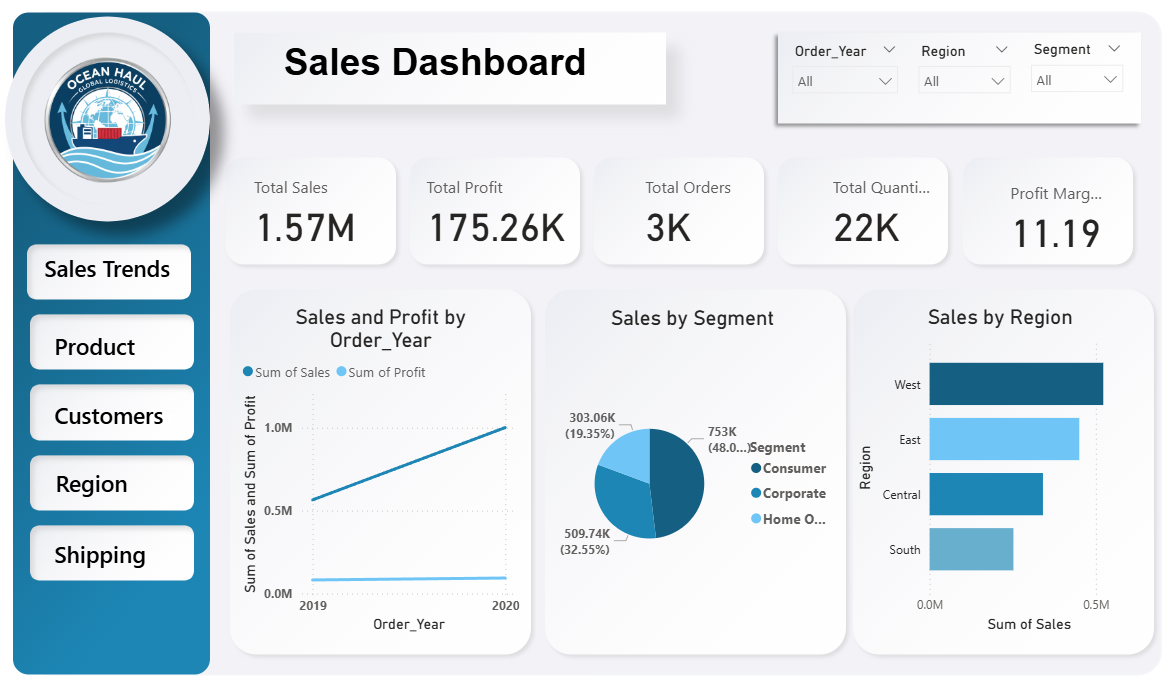

The dashboard page shown, as its layout file describes it:
{"tool":"powerbi","page":{"name":"Page 1","canvas":[1280,720],"ordinal":0},"visuals":[{"type":"textbox","box":[281.2,55,451.2,73.8],"z":0},{"type":"lineChart","title":" Sales and Profit by Order_Year","fields":{"Y":["Sum(Sheet1.Sales)","Sum(Sheet1.Profit)"],"Category":["Sheet1.Order_Year"]},"box":[305,318.8,287.5,332.5],"z":1000},{"type":"clusteredBarChart","title":"Sales by Region","fields":{"Y":["Sum(Sheet1.Sales)"],"Category":["Sheet1.Region"]},"box":[920,318.8,296.2,332.5],"z":2000},{"type":"pieChart","title":"Sales by Segment","fields":{"Category":["Sheet1.Segment"],"Y":["Sum(Sheet1.Sales)"]},"box":[612.5,320,296.2,332.5],"z":3000},{"type":"cardVisual","title":"Total Profit","fields":{"Data":["Sheet1.Total Sales"]},"box":[305,172.5,172.5,118.8],"z":4000},{"type":"cardVisual","fields":{"Data":["Sheet1.Total Quantity Sold"]},"box":[862.5,171.2,151.2,110],"z":5000},{"type":"cardVisual","fields":{"Data":["Sheet1.Profit Margin %"]},"box":[1045,178.8,156.2,95],"z":6000},{"type":"slicer","fields":{"Values":["Sheet1.Order_Year"]},"box":[850,51.2,126.2,82.5],"z":7000},{"type":"cardVisual","title":"Total Profit","fields":{"Data":["Sheet1.Total Profit"]},"box":[477.5,171.2,193.8,110],"z":8000},{"type":"cardVisual","fields":{"Data":["Sheet1.Total Orders"]},"box":[696.2,171.2,153.8,110],"z":9000},{"type":"slicer","fields":{"Values":["Sheet1.Region"]},"box":[976.2,51.2,112.5,83.8],"z":10000},{"type":"slicer","fields":{"Values":["Sheet1.Segment"]},"box":[1088.8,50,112.5,83.8],"z":11000},{"type":"actionButton","box":[133.8,408.8,147.5,42.5],"z":12000},{"type":"actionButton","box":[111.2,261.2,146.2,40],"z":13000},{"type":"actionButton","box":[122.5,476.2,146.2,40],"z":14000},{"type":"actionButton","box":[121.2,408.8,147.5,40],"z":15000},{"type":"actionButton","box":[121.2,547.5,147.5,40],"z":16000},{"type":"actionButton","box":[121.2,338.8,147.5,41.2],"z":17000},{"type":"image","box":[82.5,42.5,186.2,183.8],"z":18000}]}

Visuals, with their boxes on the page's 1280x720 design canvas (x1, y1, x2, y2). These are canvas units, not pixel positions in the 1174x682 screenshot, which may show the page scaled, cropped or inside an application window:
textbox: (x1=281, y1=55, x2=732, y2=129)
" Sales and Profit by Order_Year" lineChart: (x1=305, y1=319, x2=592, y2=651)
"Sales by Region" clusteredBarChart: (x1=920, y1=319, x2=1216, y2=651)
"Sales by Segment" pieChart: (x1=612, y1=320, x2=909, y2=652)
"Total Profit" cardVisual: (x1=305, y1=172, x2=478, y2=291)
cardVisual - Sheet1.Total Quantity Sold: (x1=862, y1=171, x2=1014, y2=281)
cardVisual - Sheet1.Profit Margin %: (x1=1045, y1=179, x2=1201, y2=274)
slicer - Sheet1.Order_Year: (x1=850, y1=51, x2=976, y2=134)
"Total Profit" cardVisual: (x1=478, y1=171, x2=671, y2=281)
cardVisual - Sheet1.Total Orders: (x1=696, y1=171, x2=850, y2=281)
slicer - Sheet1.Region: (x1=976, y1=51, x2=1089, y2=135)
slicer - Sheet1.Segment: (x1=1089, y1=50, x2=1201, y2=134)
actionButton: (x1=134, y1=409, x2=281, y2=451)
actionButton: (x1=111, y1=261, x2=257, y2=301)
actionButton: (x1=122, y1=476, x2=269, y2=516)
actionButton: (x1=121, y1=409, x2=269, y2=449)
actionButton: (x1=121, y1=548, x2=269, y2=588)
actionButton: (x1=121, y1=339, x2=269, y2=380)
image: (x1=82, y1=42, x2=269, y2=226)
